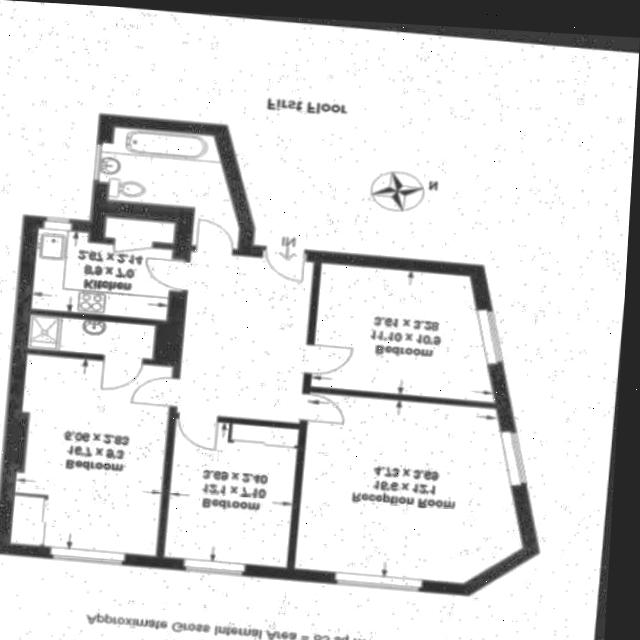room: (289, 390, 535, 585), (14, 355, 184, 556), (304, 261, 505, 399), (181, 238, 315, 421), (167, 410, 302, 566), (96, 126, 248, 255), (33, 212, 196, 320), (30, 314, 157, 365)
